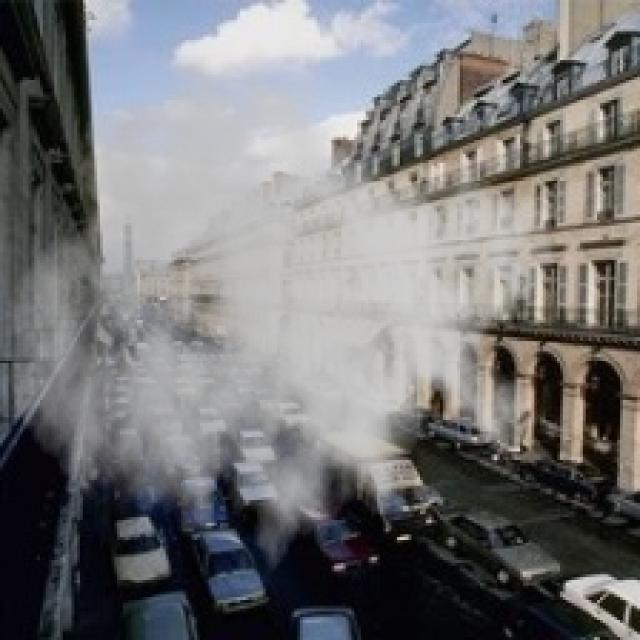smoke: (6, 40, 557, 594)
